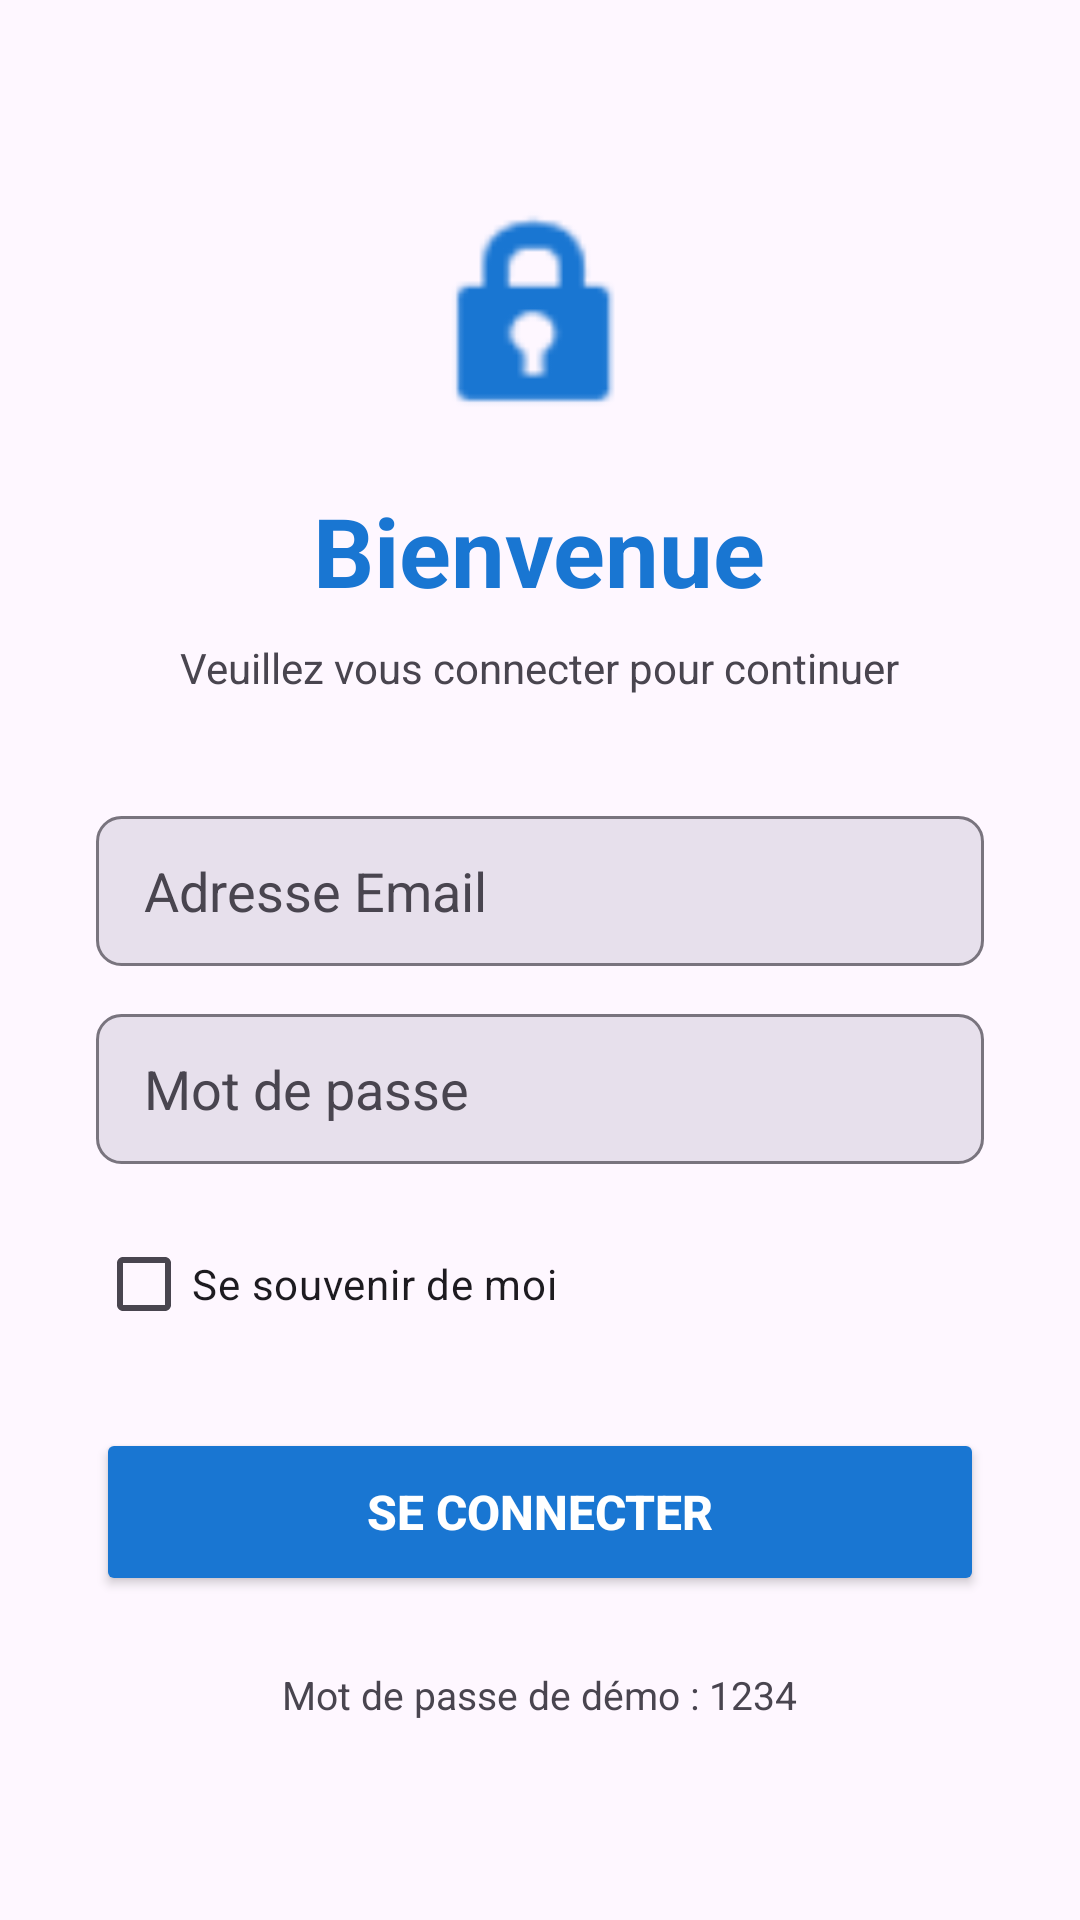

Screen size 1080×1920. Icon name, then its box in pixels as [x1,y1,x2,y2]:
lock idle: [456,218,613,402]
